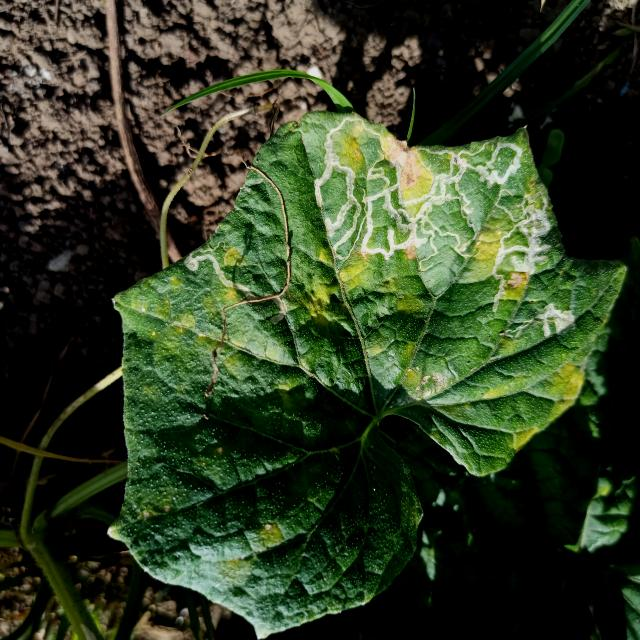disease_cucumber: (170, 115, 585, 399), (458, 352, 584, 458), (210, 515, 288, 589)
